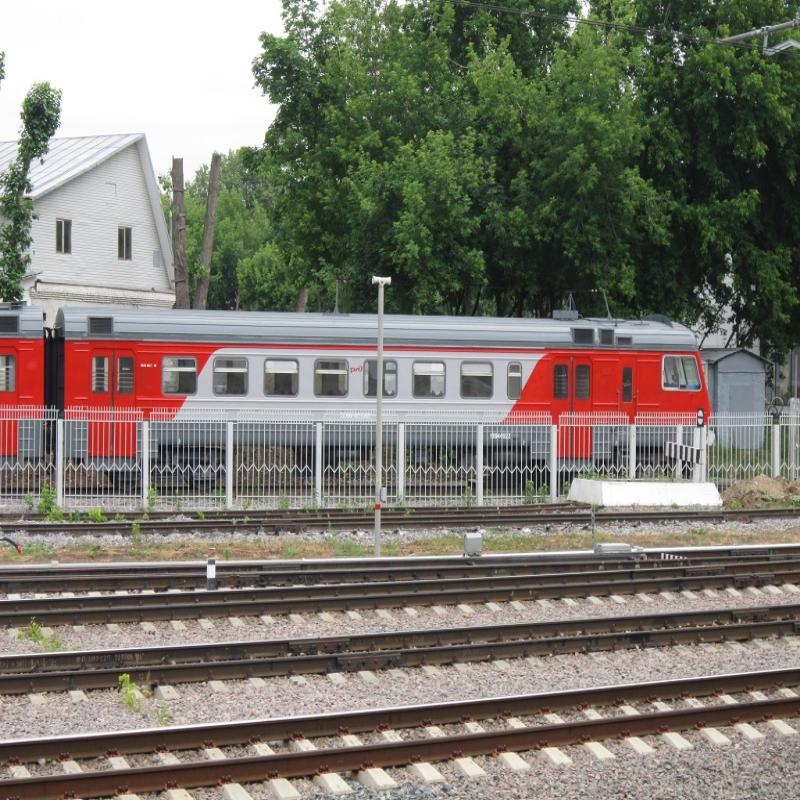train: (54, 256, 732, 519)
